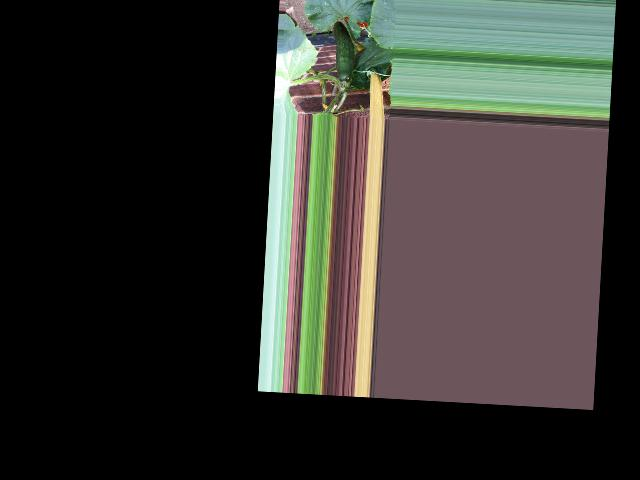cucumber: (329, 21, 356, 82)
